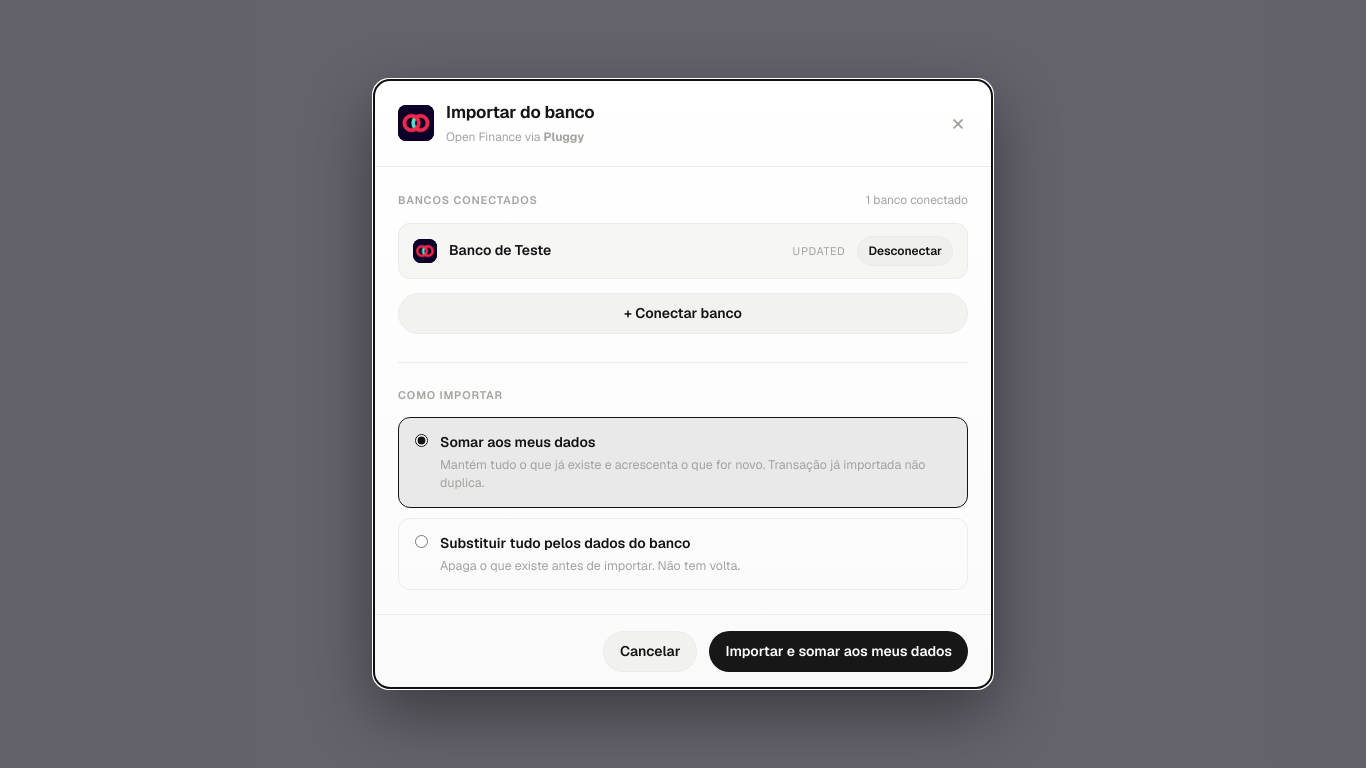
Test: PluggyImportModal — trava do botão (T-092) › modo replace trava o botão até a palavra ser digitada, e mostra os avisos
Step 1. Click the 2nd radio button → (422, 541), box x1=415 y1=535 x2=428 y2=548
(page scrolled)
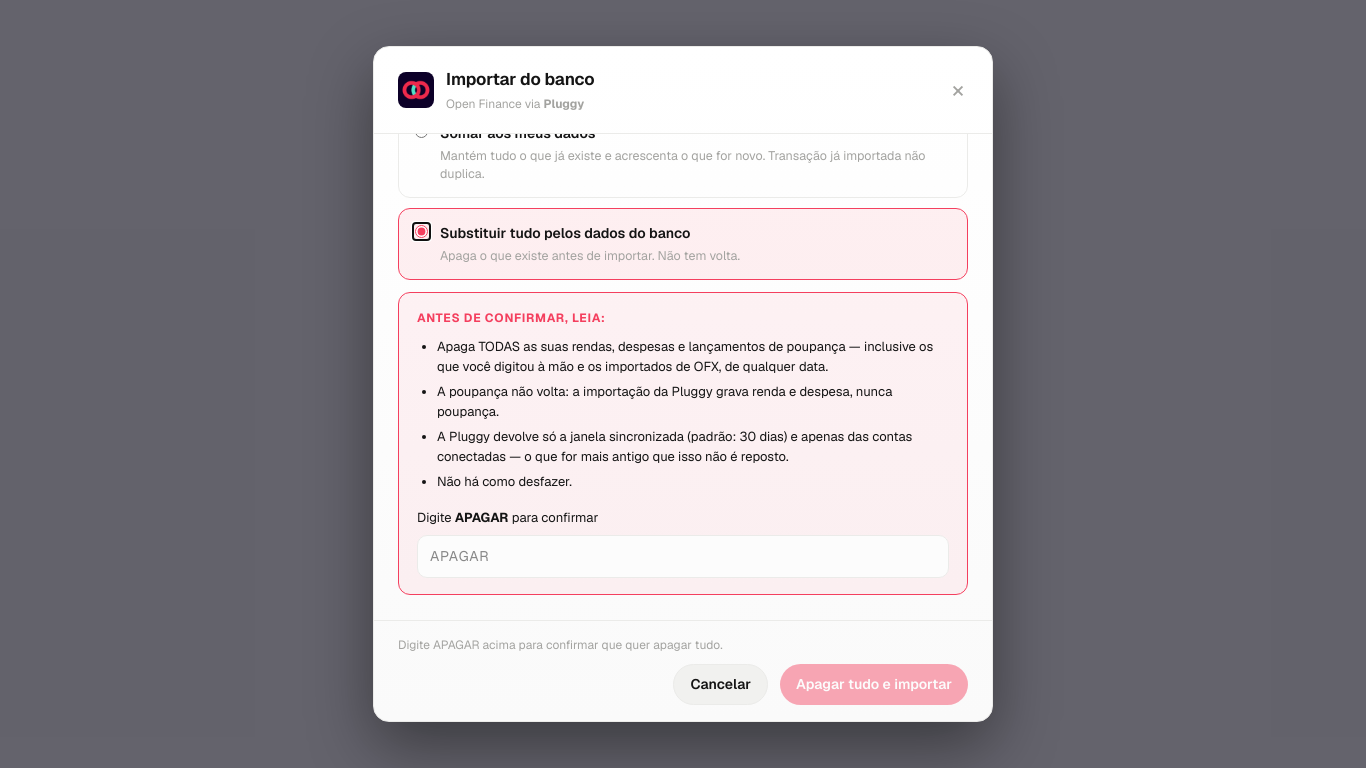
Now the text "Digite APAGAR acima para confirmar que quer apagar tudo." is shown, box x1=398 y1=636 x2=723 y2=652
Now the message is shown, box x1=398 y1=292 x2=968 y2=596
